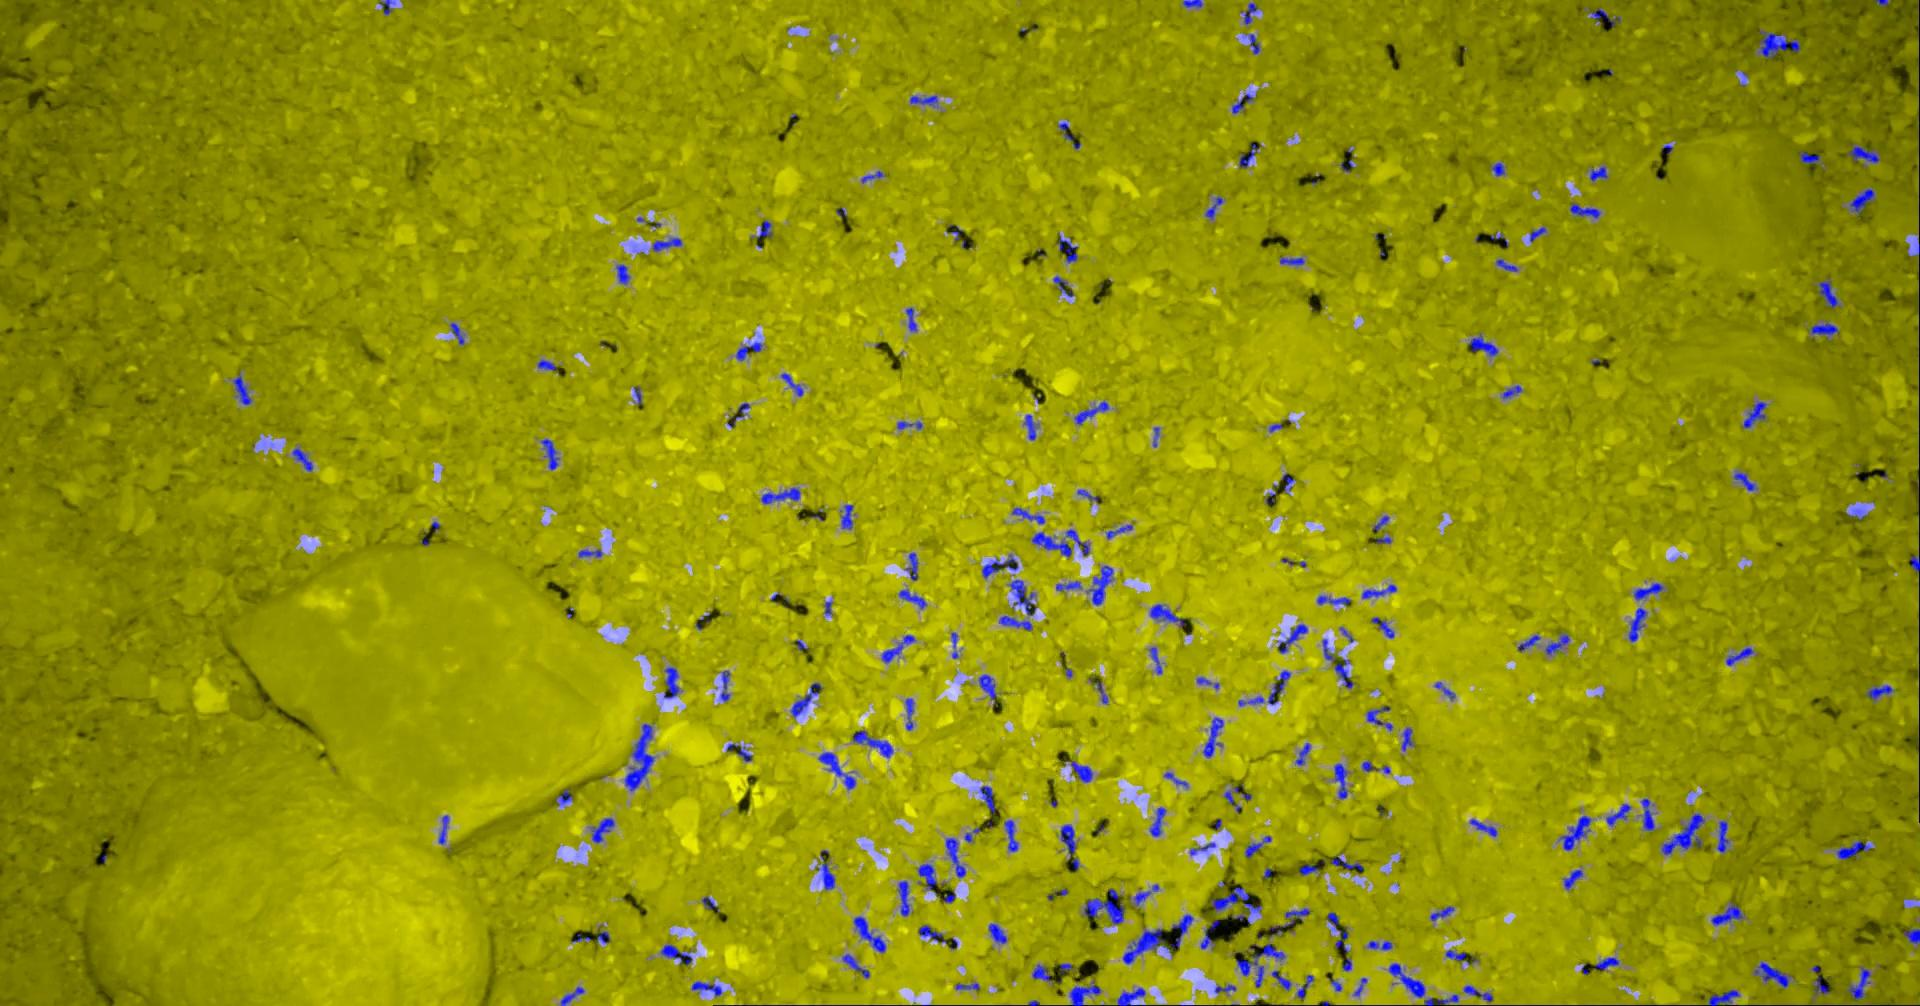ant: (1236, 942, 1284, 987), (623, 723, 654, 790), (1238, 669, 1290, 705), (1661, 813, 1704, 854), (1123, 929, 1170, 963), (1322, 638, 1352, 688), (1084, 888, 1124, 923), (1209, 887, 1261, 913), (818, 752, 855, 789), (1388, 963, 1423, 997), (1269, 907, 1309, 936), (1757, 30, 1801, 57), (853, 916, 885, 951), (790, 682, 822, 716), (1558, 815, 1590, 850), (852, 730, 891, 757), (881, 634, 916, 663), (1031, 531, 1070, 556), (1088, 565, 1112, 605), (1010, 579, 1036, 615), (1754, 962, 1789, 987), (1277, 622, 1307, 653), (1326, 912, 1347, 951), (1074, 400, 1109, 424), (1203, 716, 1223, 757), (982, 554, 1017, 577), (945, 837, 965, 876), (1060, 824, 1078, 869), (1149, 603, 1183, 626), (1710, 901, 1742, 925), (1846, 967, 1870, 998), (817, 848, 834, 889), (1171, 915, 1192, 948), (1836, 840, 1873, 859), (1849, 188, 1874, 215), (1468, 333, 1497, 356), (1583, 8, 1620, 25), (1628, 607, 1647, 641), (759, 486, 799, 503), (1366, 705, 1392, 730), (1057, 121, 1079, 149), (841, 954, 869, 977), (1128, 884, 1158, 904), (660, 944, 691, 964), (1069, 984, 1100, 1005), (1065, 528, 1090, 554), (590, 817, 615, 842), (1743, 401, 1766, 428), (1065, 760, 1092, 782), (1057, 232, 1077, 262), (232, 373, 251, 404), (726, 401, 749, 427), (540, 438, 559, 469), (1244, 835, 1270, 857), (898, 588, 926, 608), (1223, 784, 1243, 812), (1848, 145, 1879, 163), (1606, 803, 1630, 826), (1011, 507, 1044, 523), (1330, 855, 1363, 871), (1633, 582, 1663, 600), (1818, 279, 1837, 307), (1724, 647, 1752, 666), (1200, 920, 1219, 948), (918, 923, 946, 942), (780, 373, 803, 396), (291, 447, 312, 471), (1545, 633, 1570, 654), (917, 862, 936, 889), (1570, 202, 1600, 218), (998, 615, 1031, 630), (1469, 818, 1497, 836), (1117, 987, 1145, 1005), (735, 340, 761, 359), (663, 667, 678, 699), (1463, 984, 1492, 1001), (1361, 584, 1396, 598), (1333, 763, 1347, 798), (1230, 93, 1253, 113), (1238, 144, 1258, 166), (691, 981, 721, 996), (1708, 989, 1738, 1005), (560, 986, 584, 1005), (1149, 807, 1164, 836), (1641, 798, 1655, 829), (1003, 819, 1017, 851), (979, 785, 996, 812), (1204, 197, 1224, 218), (1371, 617, 1394, 636), (897, 880, 909, 915), (1733, 473, 1757, 490), (978, 674, 996, 699), (1865, 685, 1893, 700), (1053, 276, 1073, 296), (651, 238, 681, 251), (1716, 821, 1728, 852), (1297, 974, 1313, 998), (1434, 681, 1454, 700), (1563, 869, 1582, 889), (1271, 970, 1291, 989), (1239, 3, 1257, 24), (1517, 634, 1539, 652), (1105, 525, 1131, 539), (1361, 761, 1390, 774), (1429, 906, 1454, 920), (1316, 594, 1350, 605), (1423, 995, 1458, 1005), (1189, 842, 1215, 855), (988, 923, 1006, 942), (1163, 772, 1187, 786), (1810, 323, 1839, 334), (1295, 742, 1310, 763), (1023, 414, 1036, 439), (905, 553, 917, 580), (1149, 647, 1161, 674), (945, 224, 963, 241), (1813, 976, 1830, 995), (839, 504, 852, 528), (1594, 956, 1618, 969), (1244, 33, 1258, 55), (450, 323, 463, 344), (756, 220, 772, 238), (1032, 964, 1050, 981), (861, 170, 884, 183), (1445, 949, 1470, 960), (909, 95, 937, 105), (438, 815, 448, 843), (720, 669, 729, 701), (905, 699, 914, 730), (1095, 681, 1107, 702), (555, 788, 571, 804), (1589, 166, 1608, 180), (1495, 259, 1517, 271), (1076, 489, 1098, 500), (1401, 727, 1412, 749), (1798, 151, 1818, 164), (616, 264, 629, 285), (1055, 580, 1081, 591), (1299, 862, 1319, 875), (1529, 226, 1545, 241), (1281, 473, 1295, 490), (1196, 677, 1218, 688), (905, 307, 916, 332), (1502, 385, 1521, 398), (1368, 940, 1390, 950), (1279, 257, 1304, 265), (897, 420, 921, 429), (737, 746, 750, 761), (1903, 929, 1919, 942), (578, 549, 601, 558), (380, 0, 394, 14), (701, 895, 715, 909), (537, 359, 556, 370), (955, 982, 979, 989), (1909, 555, 1919, 573), (1491, 163, 1503, 177), (596, 930, 610, 942), (1214, 984, 1236, 992), (1182, 0, 1203, 8)
